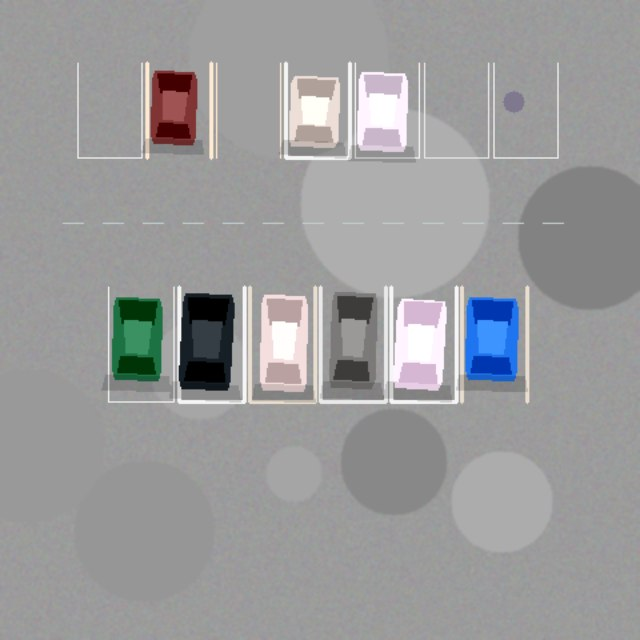space-empty: (77, 63, 141, 157), (216, 63, 280, 157), (424, 63, 488, 157), (493, 63, 557, 157)
space-occupied: (249, 287, 315, 401), (461, 287, 527, 401), (108, 287, 173, 401), (179, 287, 244, 401), (320, 287, 385, 401), (391, 287, 456, 401), (147, 63, 211, 157), (285, 63, 349, 157), (355, 63, 419, 157)
